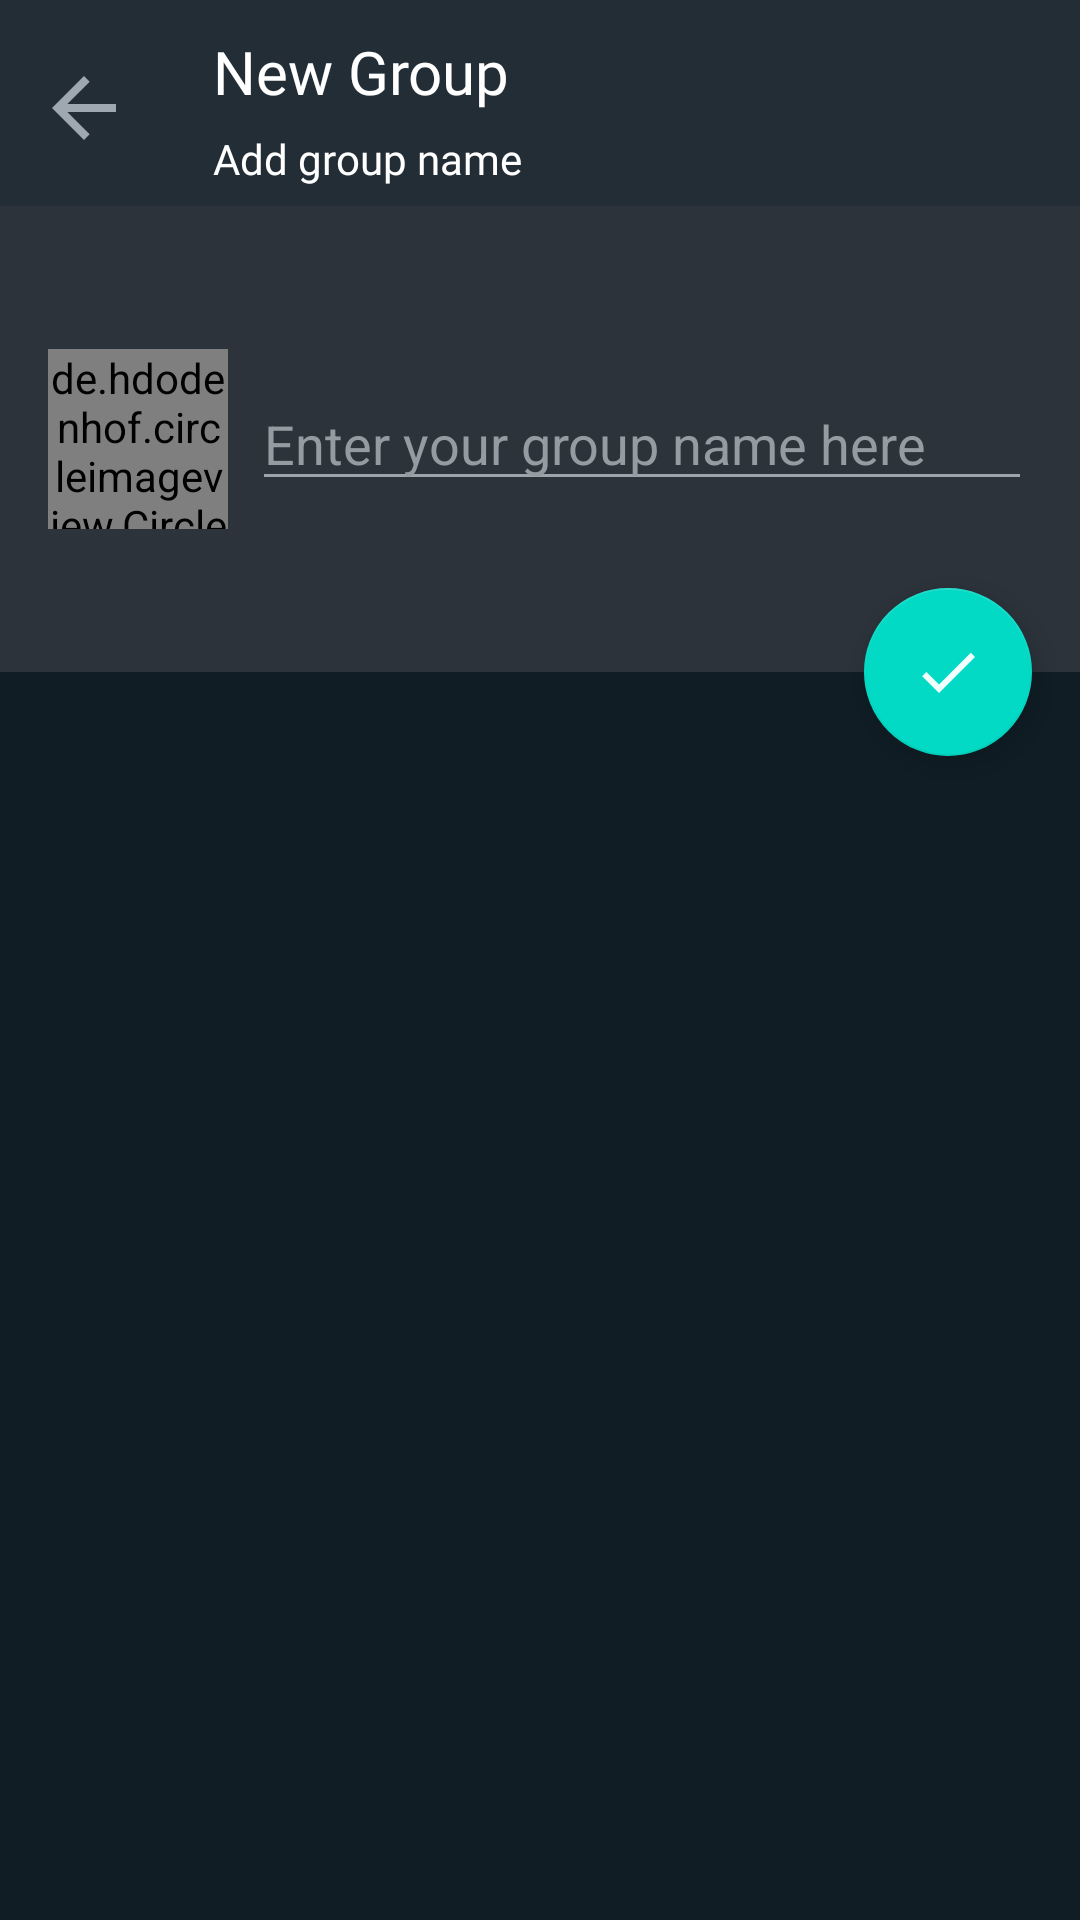

Screen size 1080×1920. Icon name, then its center in pixels as (x=x, y=y):
back: (x=84, y=108)
done: (x=948, y=672)
